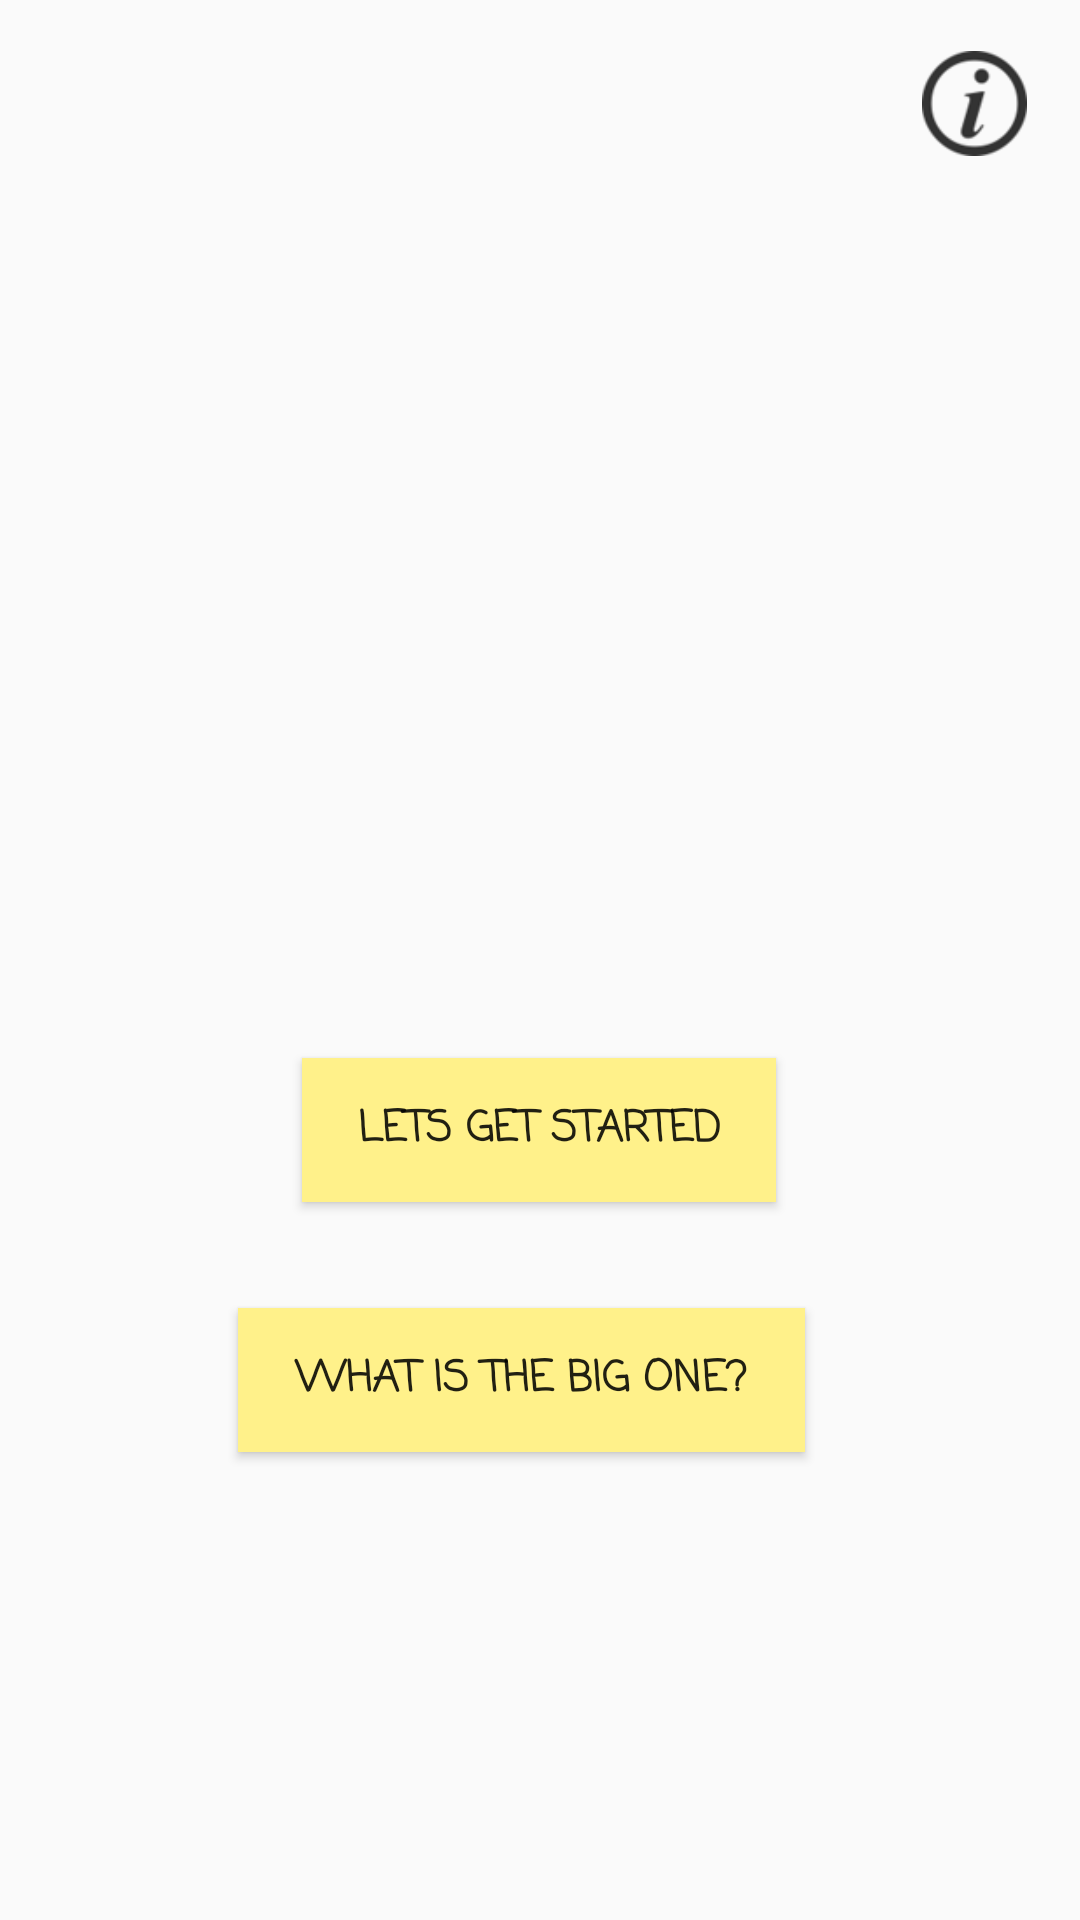

Where icons sit on this 1080w x 1920h app screen, as (x1, y1, x2, y2):
infobtn: (922, 51, 1027, 156)
